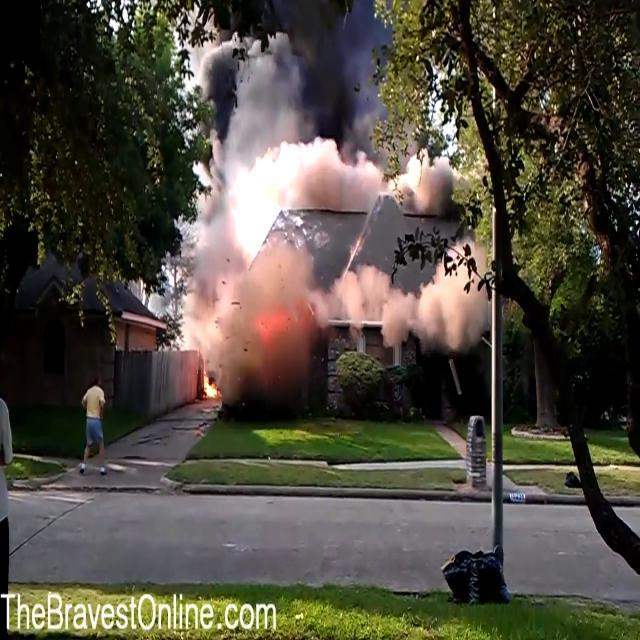Fire: (199, 365, 223, 408)
Smoke: (174, 140, 486, 396), (190, 1, 388, 162)
